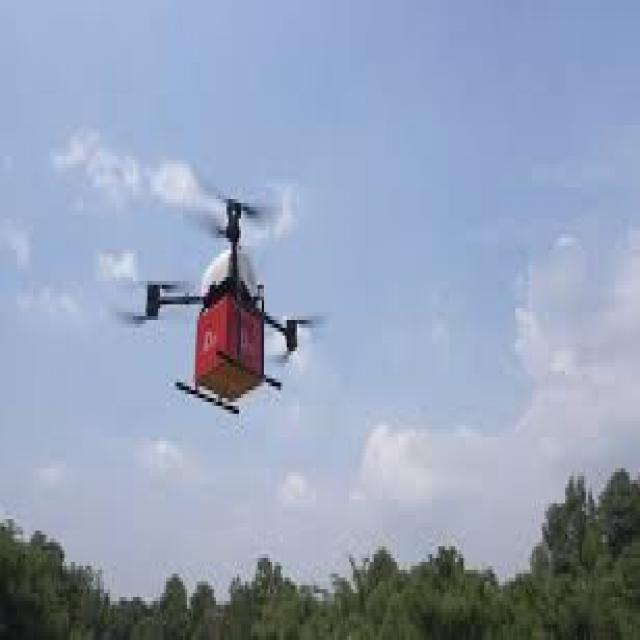drones: (105, 152, 340, 455)
